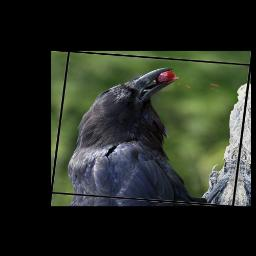Crow: (64, 60, 248, 205)
